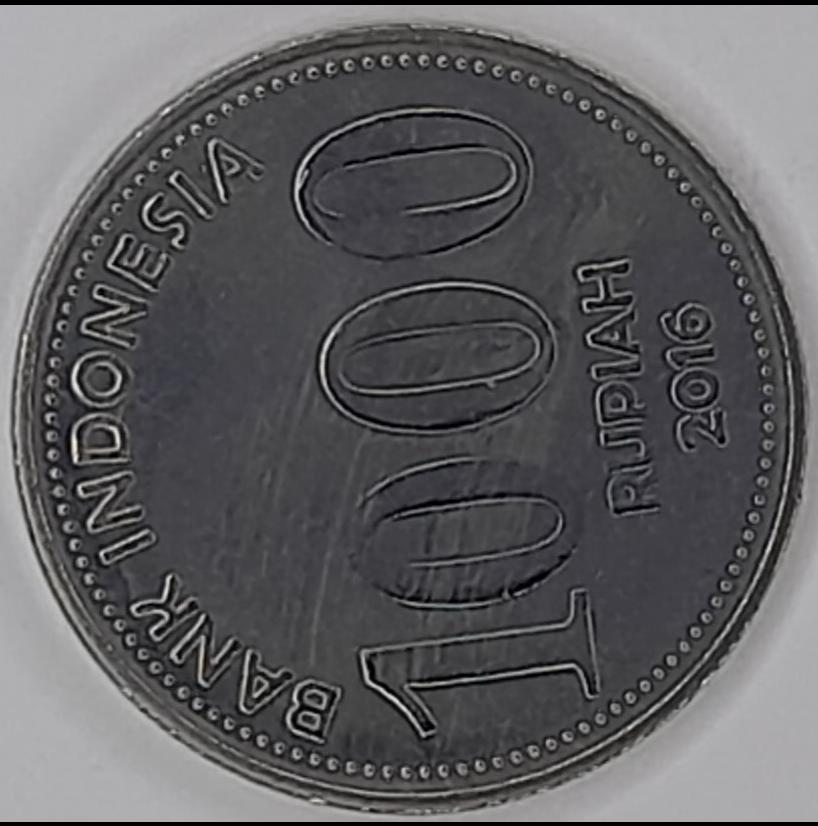coin_1000_e2016: (14, 16, 807, 826)
